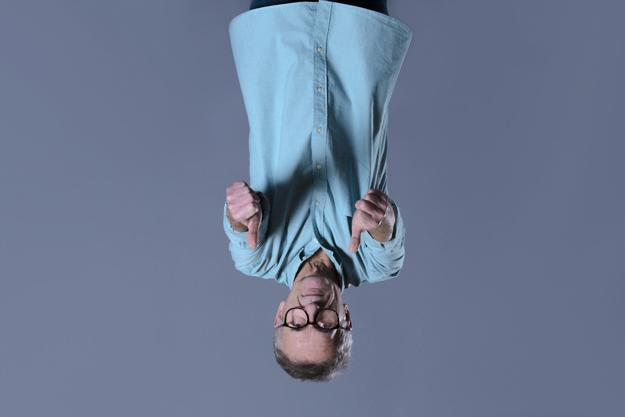thumbsdown: (225, 181, 262, 249), (349, 189, 388, 253)
